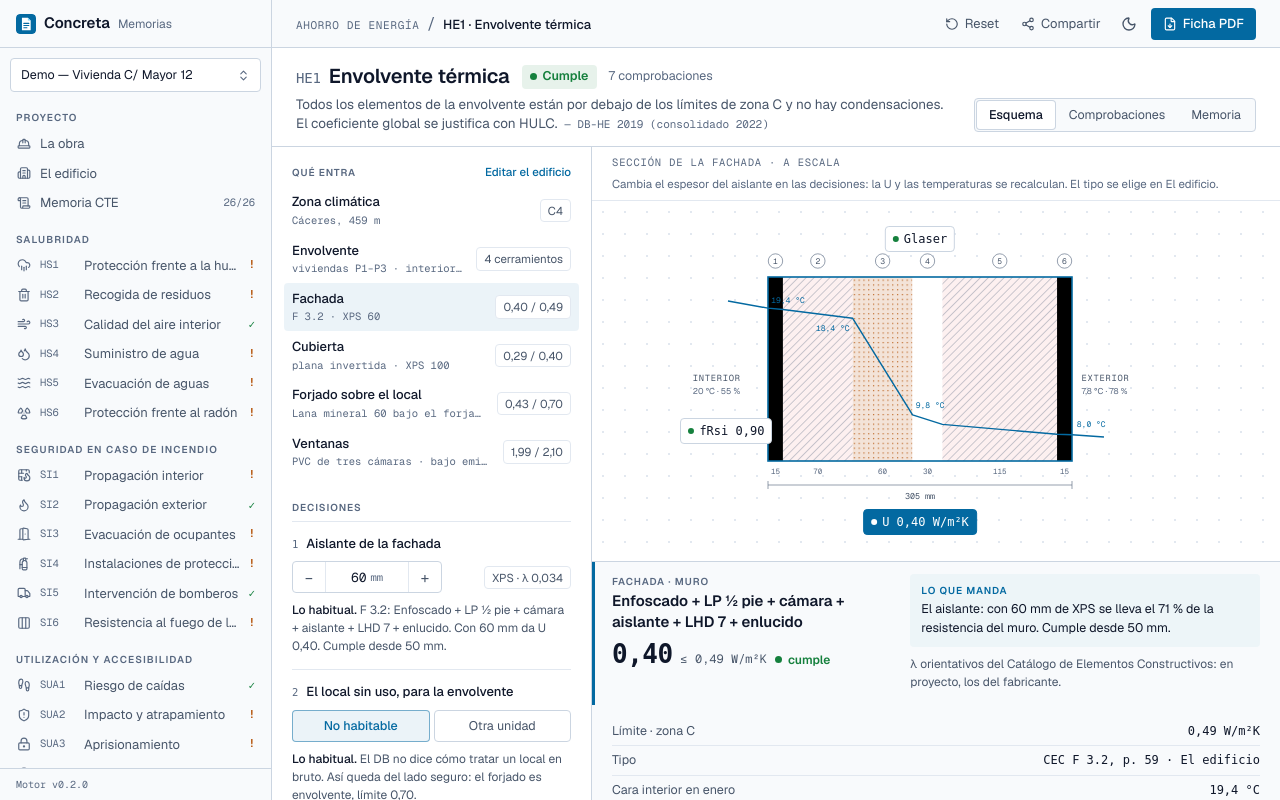
it: HE1 · desde El edificio (feature-15) › el local como otra unidad cambia el límite del forjado; la ventana se ve en alzado
This screenshot has width=1280, height=800.
expect the element "Sección de la fachada · a escala" is shown: met, box [592, 147, 1279, 799]
Click the button "Otra unidad" at (502, 726), box [434, 710, 571, 742]
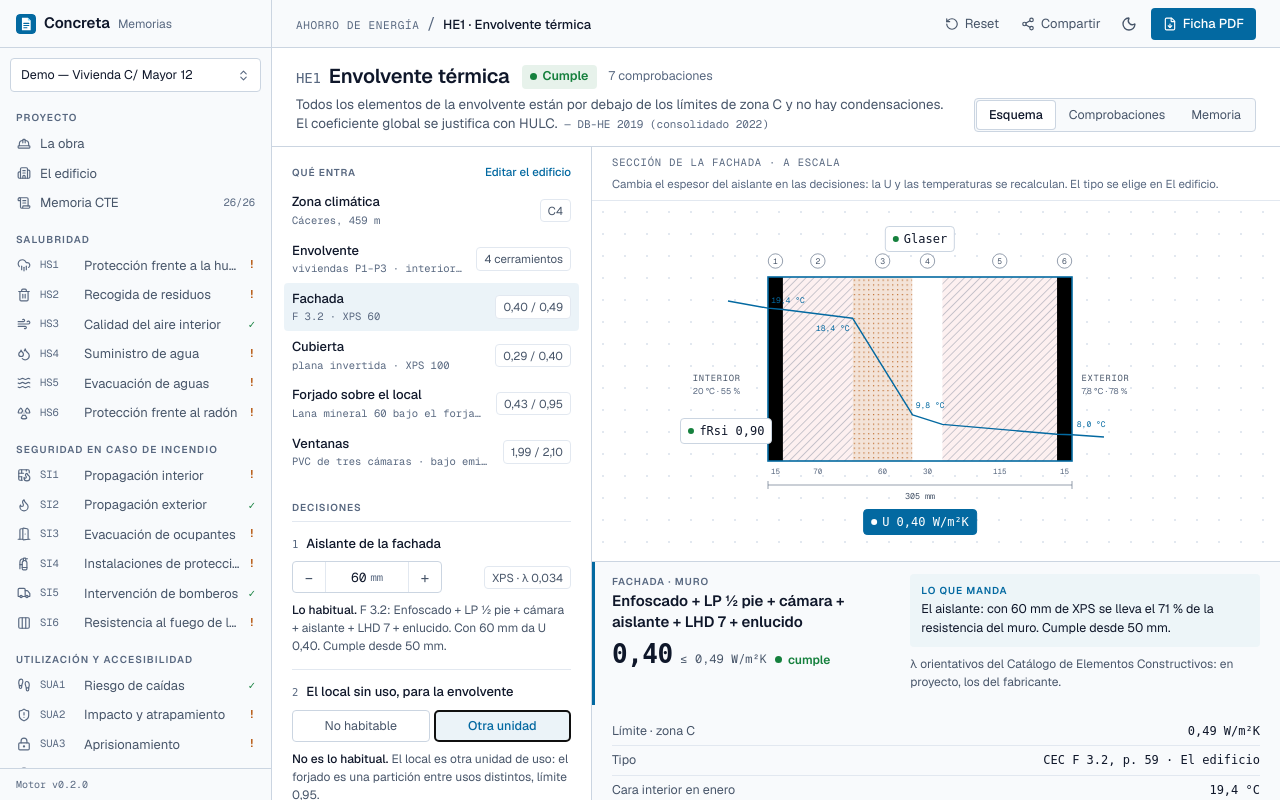
Click the button "Forjado sobre el local" at (432, 404), box [284, 379, 579, 428]
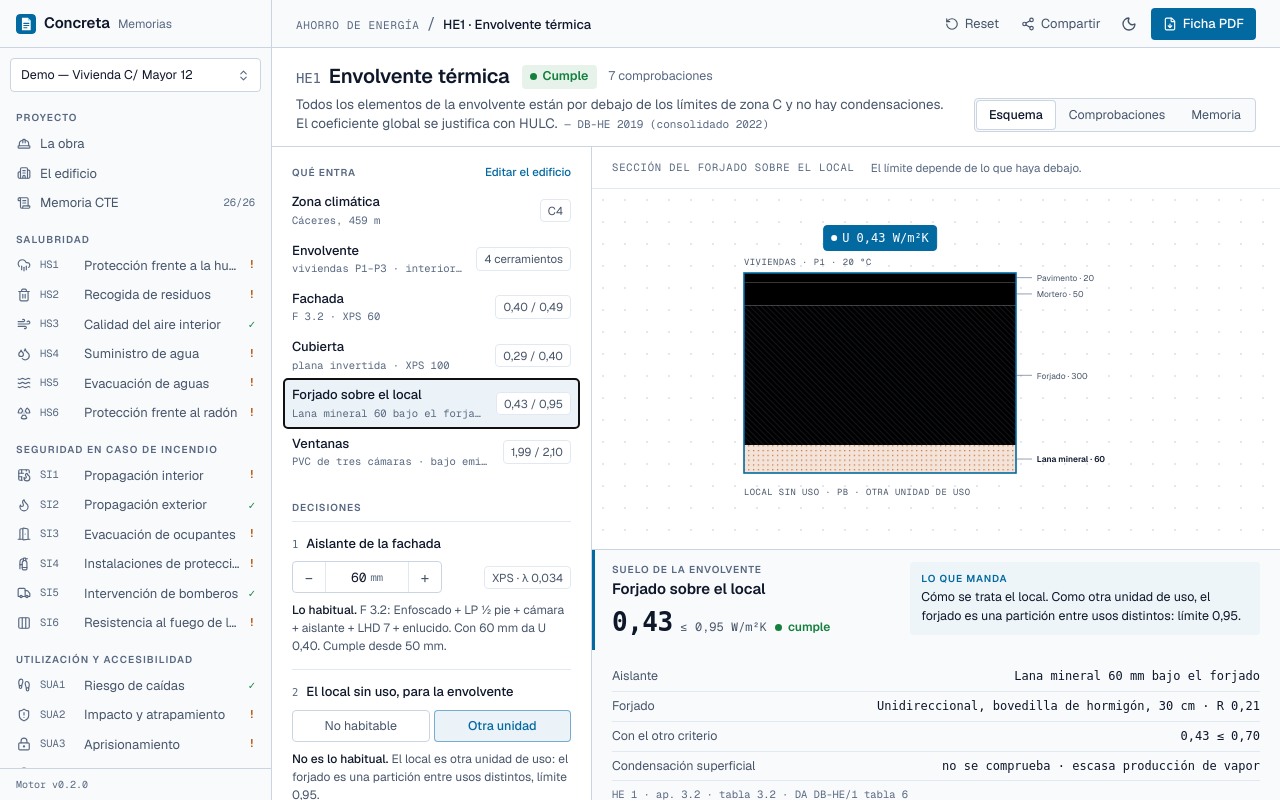
expect the element "Sección del forjado sobre el local" shows "partición entre usos distintos: límite 0,95": met, box [921, 588, 1241, 624]
Click the button "Ventanas PVC de tres cámaras · bajo emisivo 1,99 / 2,10" at (432, 452), box [284, 428, 579, 476]
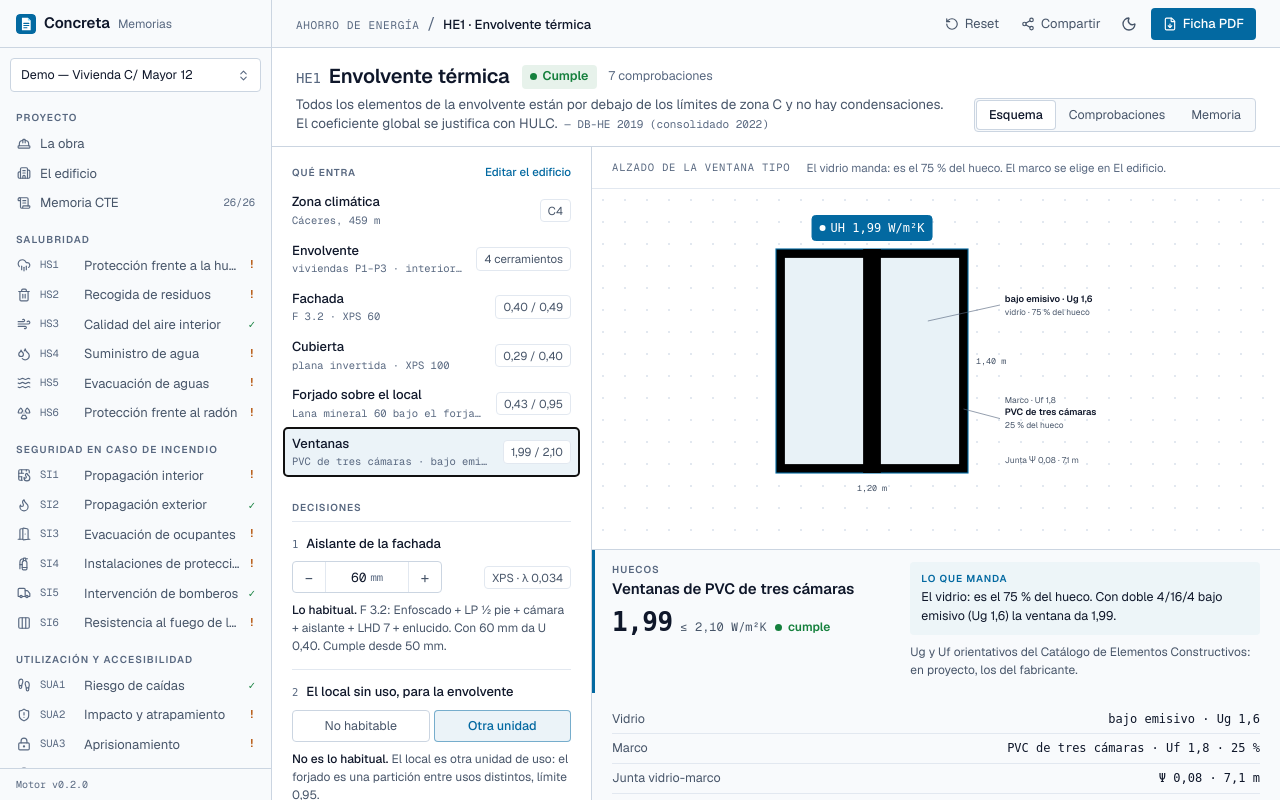
expect the element "Alzado de la ventana tipo" shows "Junta vidrio-marco": met, box [612, 769, 721, 786]
